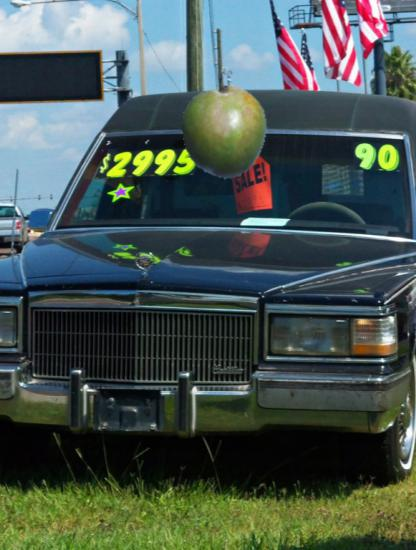Mango: (176, 83, 273, 180)
